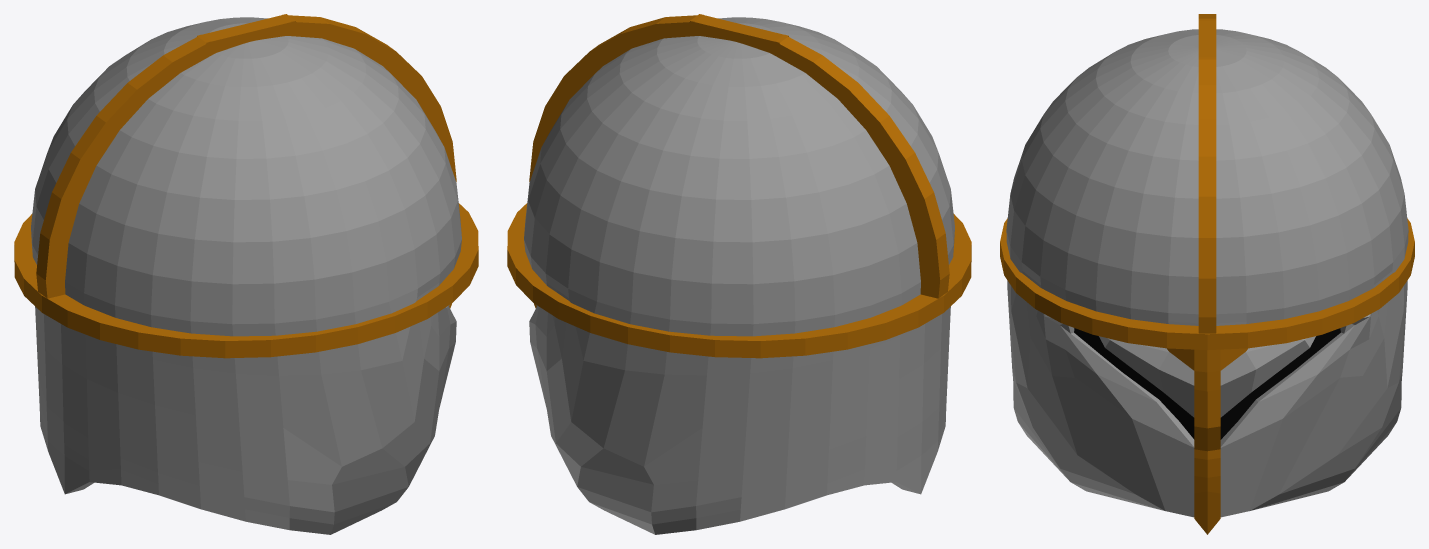
Rendered from Helmet_fbx.fbx.
The picture shows the model from 3 angles, left to right: view 1: azimuth 30°, elevation 25°; view 2: azimuth 150°, elevation 25°; view 3: azimuth 270°, elevation 25°; orthographic projection. The views are drawn at different scales.
Parts seen in each view (by area): view 1: Sphere, Circle, Circle.001; view 2: Sphere, Circle, Circle.001; view 3: Sphere, Circle.001, Circle, Cube, Plane.
Part boxes in pixels (left/top/right/bottom): Sphere: left=31, top=17, right=461, bottom=534; Circle: left=36, top=14, right=456, bottom=298; Circle.001: left=14, top=203, right=478, bottom=358; Sphere: left=524, top=17, right=954, bottom=534; Circle: left=529, top=14, right=949, bottom=298; Circle.001: left=507, top=203, right=971, bottom=358; Sphere: left=1006, top=29, right=1408, bottom=517; Circle.001: left=1000, top=218, right=1414, bottom=350; Circle: left=1198, top=14, right=1216, bottom=333; Cube: left=1167, top=348, right=1247, bottom=534; Plane: left=1074, top=328, right=1340, bottom=439.
Bounding box in the file's own units: 220 × 231 × 206.
